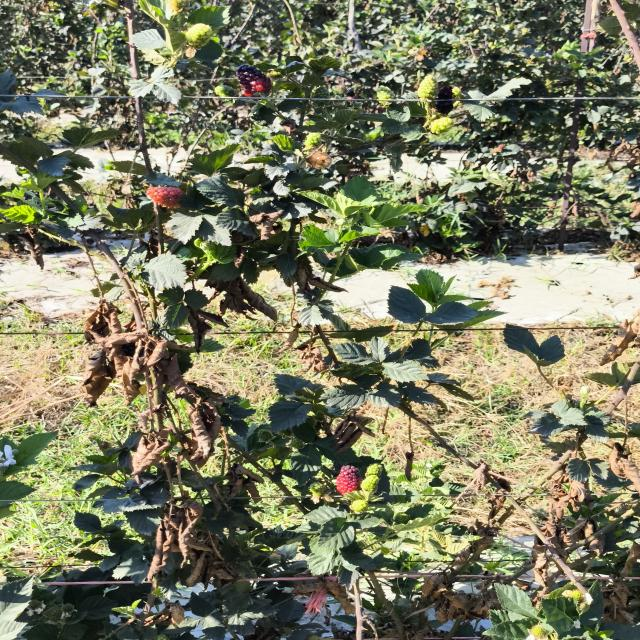marron: (236, 64, 271, 97)
naranja: (146, 186, 184, 208), (336, 465, 361, 495), (307, 152, 332, 169)
verde: (185, 23, 213, 48), (417, 76, 437, 99), (376, 86, 396, 107), (430, 116, 453, 134), (361, 475, 379, 492), (304, 133, 321, 148), (351, 500, 368, 513), (366, 464, 383, 476)
